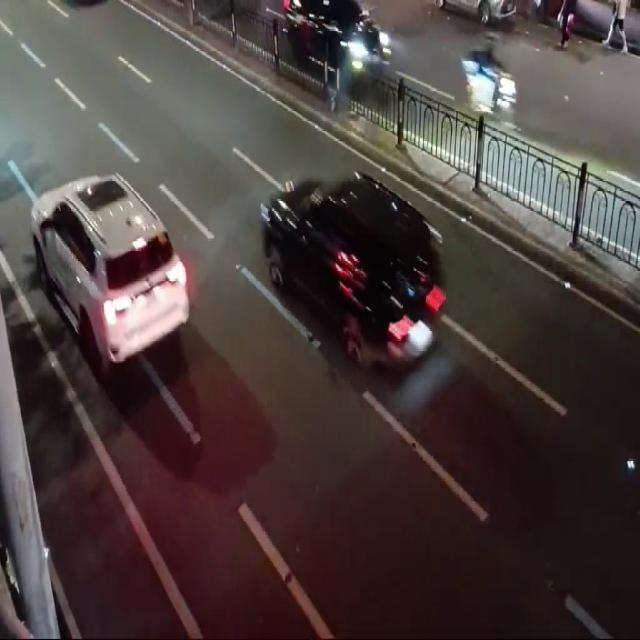car: (261, 168, 458, 380), (40, 182, 175, 384), (271, 0, 391, 89)
motorcycle: (459, 26, 525, 140)
